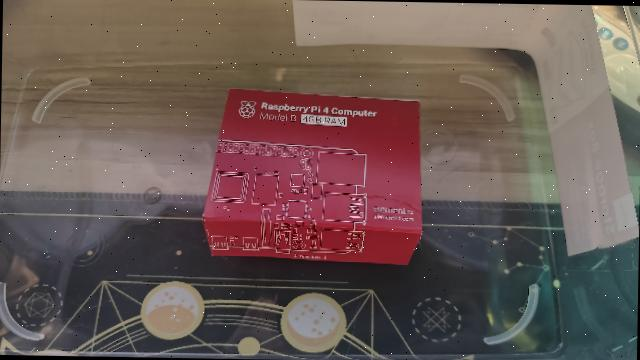rpi_box: (200, 85, 426, 267)
